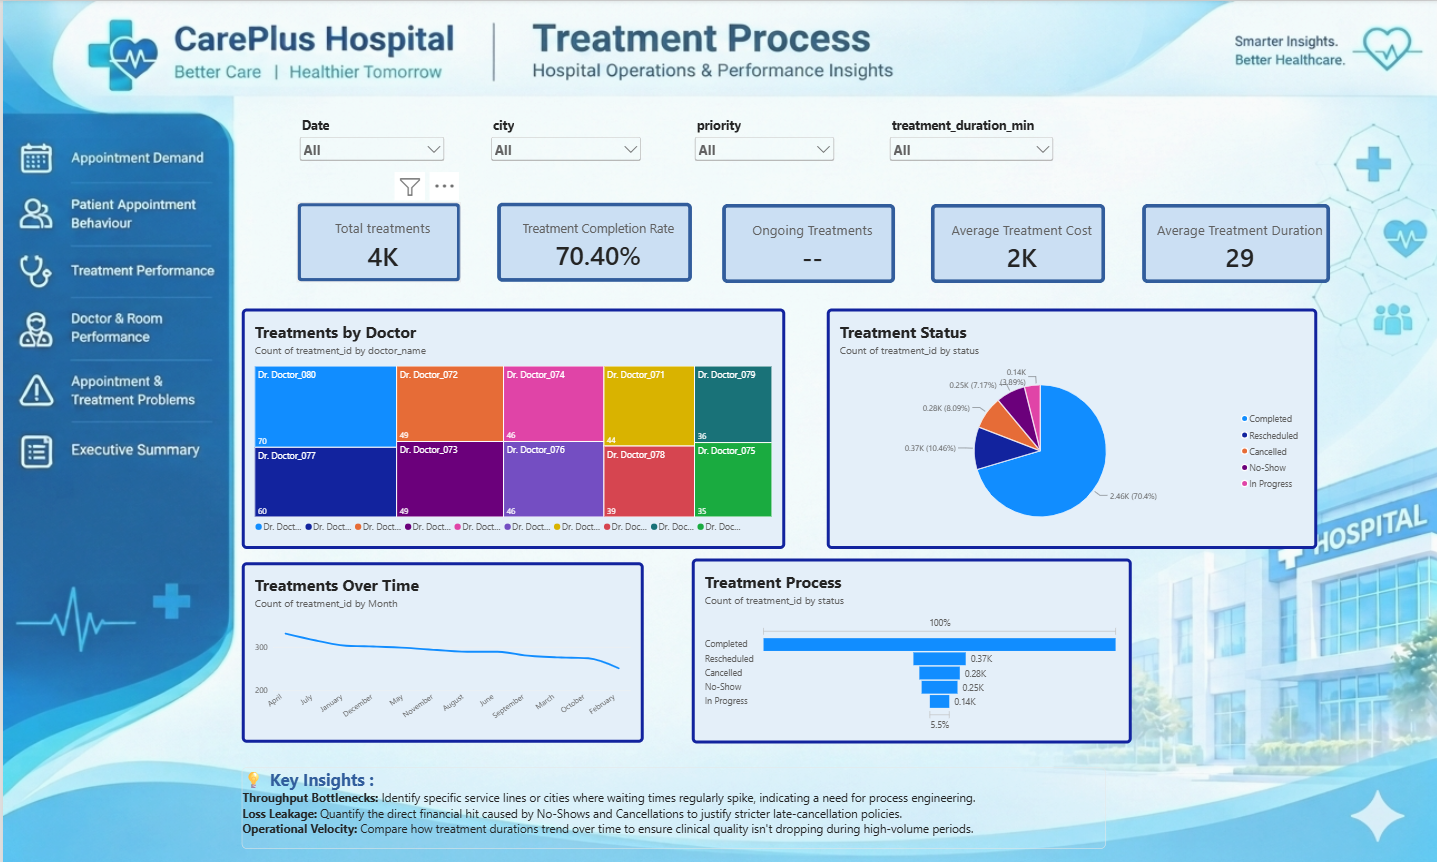

Layout of this report page (visuals, bound fields, positions):
{"tool":"powerbi","page":{"name":"Treatment Process","canvas":[2300,1400],"ordinal":2},"visuals":[{"type":"cardVisual","fields":{"Data":["_KPI Measures.Total treatments"]},"box":[469.6,321.7,263,128.3],"z":0},{"type":"cardVisual","fields":{"Data":["_KPI Measures.Treatment Completion Rate"]},"box":[789.1,321.7,313,128.3],"z":1},{"type":"cardVisual","fields":{"Data":["_KPI Measures.Ongoing Treatments"]},"box":[1150,323.9,278.3,128.3],"z":2},{"type":"cardVisual","fields":{"Data":["_KPI Measures.Average Treatment Cost"]},"box":[1484.8,323.9,280.4,128.3],"z":3},{"type":"treemap","title":"Treatments by Doctor","fields":{"Group":["doctors.doctor_name"],"Values":["CountNonNull(treatments.treatment_id)"]},"box":[382.6,491.3,869.6,384.8],"z":4},{"type":"pieChart","title":"Treatment Status","fields":{"Category":["treatments.status"],"Y":["CountNonNull(treatments.treatment_id)"]},"box":[1317.4,491.3,784.8,384.8],"z":5},{"type":"lineChart","title":"Treatments Over Time","fields":{"Category":["date_table.Month"],"Y":["CountNonNull(treatments.treatment_id)"]},"box":[382.6,897.8,643.5,289.1],"z":6},{"type":"funnel","title":"Treatment Process","fields":{"Category":["treatments.status"],"Y":["CountNonNull(treatments.treatment_id)"]},"box":[1102.2,891.3,704.3,295.7],"z":7},{"type":"slicer","fields":{"Values":["date_table.Date"]},"box":[469.6,184.8,241.3,115.2],"z":8},{"type":"slicer","fields":{"Values":["patients.city"]},"box":[776.1,184.8,250,115.2],"z":9},{"type":"slicer","fields":{"Values":["treatments.treatment_duration_min"]},"box":[1413,184.8,271.7,115.2],"z":10},{"type":"slicer","fields":{"Values":["appointments.priority"]},"box":[1102.2,184.8,232.6,115.2],"z":11},{"type":"cardVisual","fields":{"Data":["_KPI Measures.Average Treatment Duration"]},"box":[1821.7,323.9,302.2,128.3],"z":13},{"type":"textbox","box":[382,1226,1382,130],"z":14}]}

Visuals, with their boxes in screenshot pixels (x1, y1, x2, y2), scaled from the page's 2300x1400 canvas onto the 1437x862 screenshot:
cardVisual - _KPI Measures.Total treatments: left=293, top=198, right=458, bottom=277
cardVisual - _KPI Measures.Treatment Completion Rate: left=493, top=198, right=689, bottom=277
cardVisual - _KPI Measures.Ongoing Treatments: left=718, top=199, right=892, bottom=278
cardVisual - _KPI Measures.Average Treatment Cost: left=928, top=199, right=1103, bottom=278
"Treatments by Doctor" treemap: left=239, top=303, right=782, bottom=539
"Treatment Status" pieChart: left=823, top=303, right=1313, bottom=539
"Treatments Over Time" lineChart: left=239, top=553, right=641, bottom=731
"Treatment Process" funnel: left=689, top=549, right=1129, bottom=731
slicer - date_table.Date: left=293, top=114, right=444, bottom=185
slicer - patients.city: left=485, top=114, right=641, bottom=185
slicer - treatments.treatment_duration_min: left=883, top=114, right=1053, bottom=185
slicer - appointments.priority: left=689, top=114, right=834, bottom=185
cardVisual - _KPI Measures.Average Treatment Duration: left=1138, top=199, right=1327, bottom=278
textbox: left=239, top=755, right=1102, bottom=835
